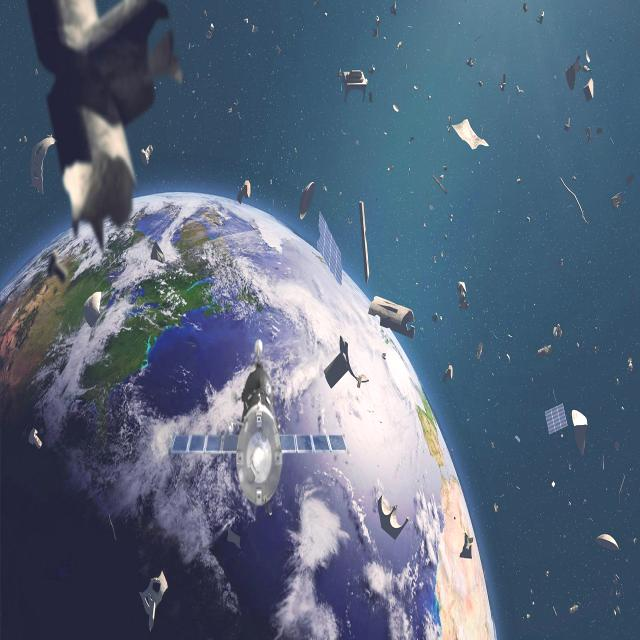large_debris: (27, 0, 182, 246), (324, 335, 369, 388), (369, 295, 415, 338), (317, 212, 342, 284), (139, 572, 167, 631), (30, 134, 55, 193), (378, 495, 409, 540), (561, 176, 590, 223), (453, 117, 489, 148), (360, 200, 370, 282), (342, 69, 368, 100), (546, 404, 569, 434), (573, 410, 588, 455), (47, 249, 67, 281), (83, 292, 100, 327), (566, 56, 581, 91), (300, 181, 314, 218), (106, 512, 118, 548), (597, 534, 620, 552), (458, 280, 470, 310), (461, 533, 474, 559), (150, 241, 164, 262), (238, 180, 251, 202), (140, 143, 153, 164), (434, 174, 448, 193), (228, 98, 242, 117), (28, 428, 41, 448), (244, 17, 258, 34), (538, 344, 554, 358), (583, 50, 593, 72), (585, 77, 594, 101), (618, 474, 626, 500), (374, 14, 382, 38), (443, 364, 453, 383), (613, 191, 624, 207), (204, 22, 214, 38), (614, 574, 620, 597), (554, 324, 563, 339), (500, 72, 507, 89), (537, 9, 545, 23), (516, 84, 524, 98), (626, 172, 634, 186), (628, 357, 634, 375), (478, 341, 484, 359), (552, 387, 558, 405), (492, 329, 499, 344), (613, 605, 621, 618), (492, 502, 500, 515), (432, 310, 440, 323), (446, 115, 452, 132), (571, 604, 580, 615), (565, 116, 572, 130), (466, 56, 474, 68), (474, 34, 482, 46), (396, 40, 403, 53), (522, 1, 528, 16), (530, 589, 535, 607), (587, 125, 592, 142), (600, 456, 606, 470), (391, 1, 397, 13), (407, 135, 415, 144), (552, 605, 558, 617), (594, 344, 600, 356), (596, 126, 603, 136), (515, 483, 522, 493), (34, 66, 40, 77), (614, 376, 620, 387), (506, 353, 511, 366), (341, 127, 346, 140), (368, 64, 375, 73), (558, 258, 564, 268), (507, 331, 513, 341), (368, 92, 373, 104), (588, 515, 594, 525), (314, 1, 321, 9), (274, 46, 281, 54), (387, 164, 394, 172), (322, 186, 329, 194), (246, 51, 253, 59), (526, 610, 531, 621), (355, 139, 360, 150), (494, 398, 499, 409), (567, 500, 573, 509), (22, 135, 28, 144), (449, 213, 454, 223), (424, 46, 431, 53), (526, 216, 532, 224), (442, 163, 448, 171), (432, 256, 438, 264), (576, 341, 582, 349), (203, 9, 208, 18), (337, 191, 342, 200), (516, 177, 522, 184), (394, 103, 399, 111), (633, 536, 637, 546), (478, 80, 483, 88), (610, 136, 614, 146), (383, 130, 388, 138), (568, 463, 572, 473), (348, 220, 353, 228), (516, 433, 520, 443), (614, 440, 618, 450), (491, 439, 495, 449), (428, 93, 432, 102), (546, 570, 550, 579), (591, 618, 597, 624), (429, 205, 434, 212), (408, 168, 412, 176), (441, 252, 445, 260), (414, 86, 419, 92), (499, 494, 505, 499), (572, 175, 576, 182), (444, 233, 448, 240), (18, 138, 22, 145), (407, 25, 412, 30), (440, 174, 445, 179), (584, 500, 587, 508), (2, 146, 6, 152), (498, 353, 500, 361)
satellite: (171, 339, 347, 505)
